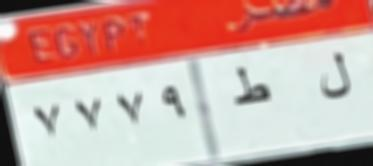7: (70, 94, 105, 137), (31, 99, 66, 142), (116, 86, 147, 130)
9: (158, 78, 190, 124)
Taa: (227, 66, 276, 112)
laam: (316, 49, 354, 106)
